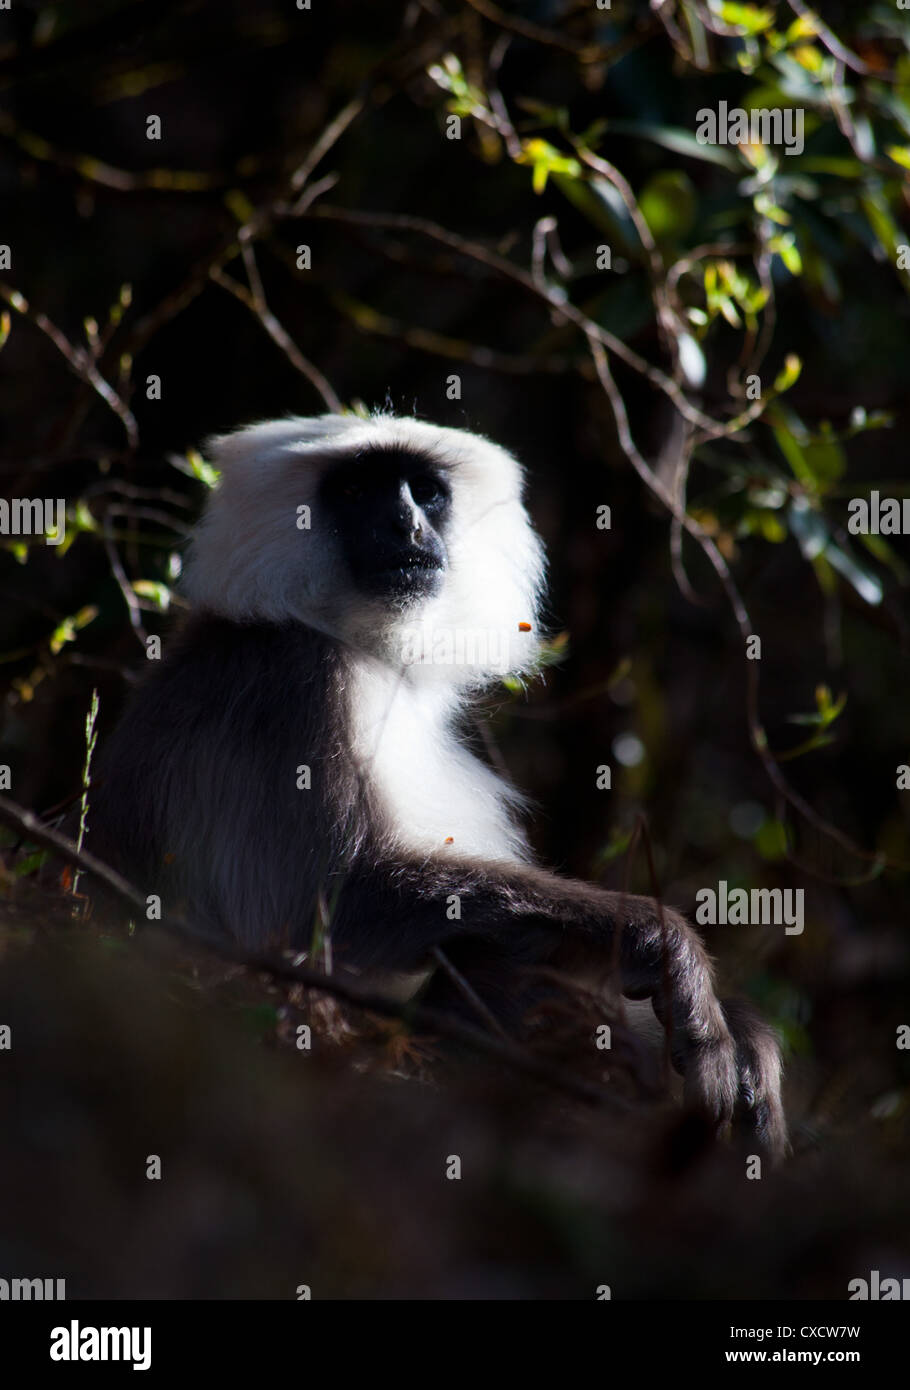monkey: (115, 397, 799, 1153)
